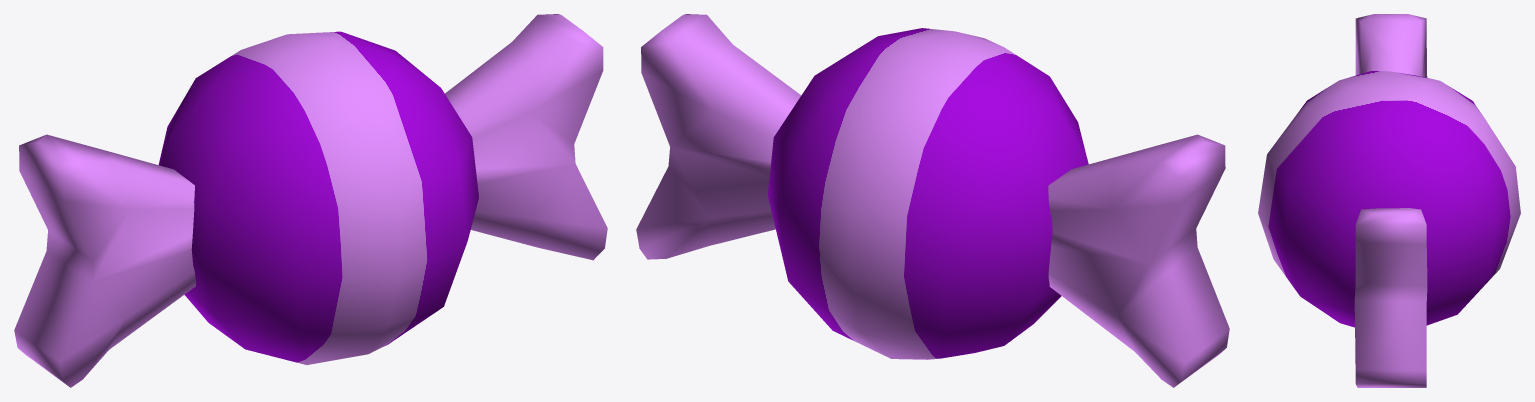
Rendered from purple_candy.glb.
3 renders of one model, left to right at view 1: azimuth 30°, elevation 25°; view 2: azimuth 150°, elevation 25°; view 3: azimuth 270°, elevation 25°, orthographic. The views are drawn at different scales.
Parts seen in each view (by area): view 1: Purple_Candy; view 2: Purple_Candy; view 3: Purple_Candy.
Part boxes in pixels (x1,y1,x2,y2): Purple_Candy: (14,14,607,387); Purple_Candy: (636,14,1229,387); Purple_Candy: (1258,14,1520,387).
Size of the model in its own units: 0.6302 by 0.3327 by 0.3333.
1 material, 1 textured.
